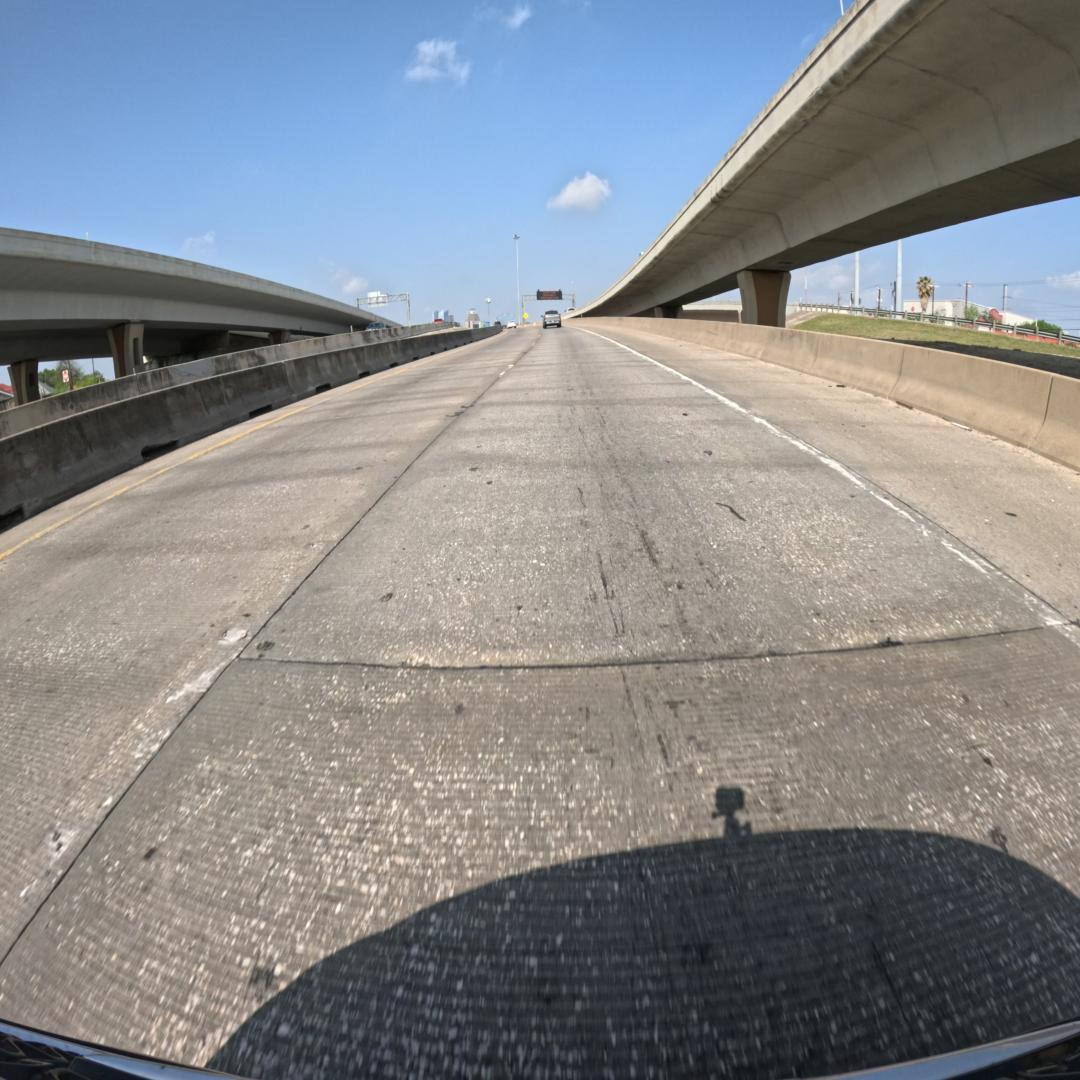lane0: (0, 328, 1080, 1077)
lane1: (0, 328, 539, 960)
